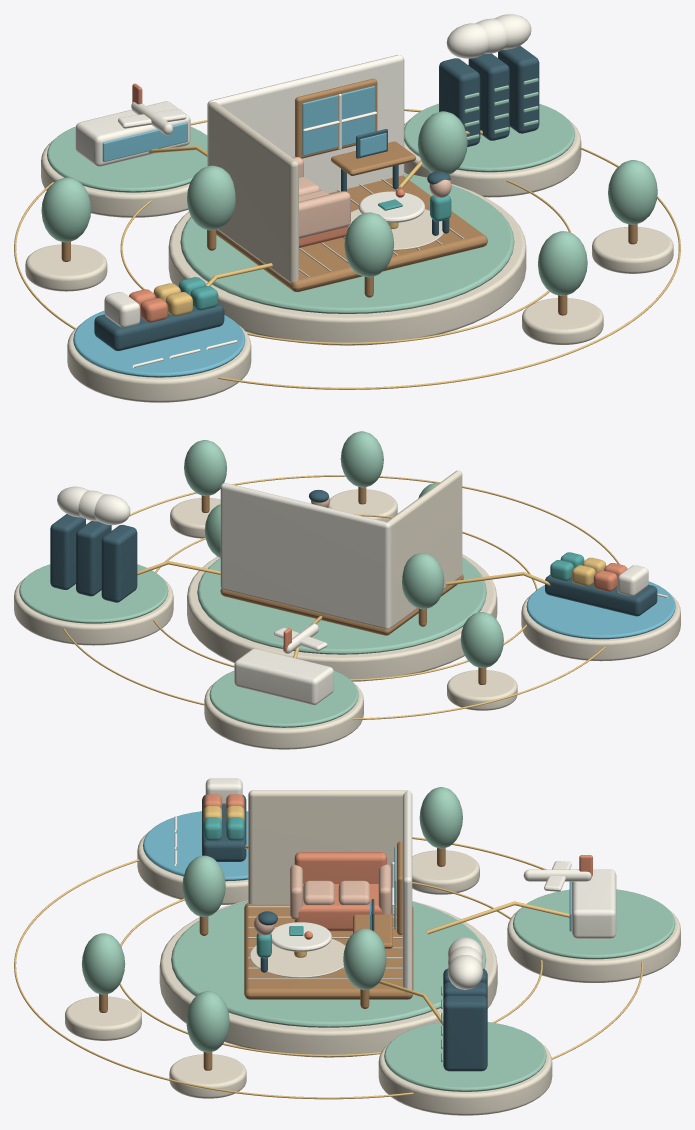
The model's file is world.glb.
3 views of the same model, one above another, from view 1: azimuth 30°, elevation 25°; view 2: azimuth 150°, elevation 25°; view 3: azimuth 270°, elevation 25° (orthographic). The views are drawn at different scales.
Visible parts, largest first — view 1: Garden rim, Central life island, Side wall, Back wall, Surface, Oak floor, Surface.002, Event island 0, Surface.001, Event island 1, Window glass, Small garden.001 (+28 smaller); view 2: Back wall, Garden rim, Central life island, Side wall, Surface.001, Surface.002, Surface, Terminal, Event island 2, Event island 1, Event island 0, Cloud service tower (+18 smaller); view 3: Garden rim, Side wall, Central life island, Surface.001, Surface.002, Oak floor, Event island 1, Event island 2, Cloud service tower.002, Surface, Terminal, Small garden.002 (+26 smaller).
Part boxes in pixels (left/top/right/bottom): Garden rim: left=180, top=173, right=514, bottom=313; Central life island: left=168, top=173, right=526, bottom=345; Side wall: left=208, top=102, right=298, bottom=283; Back wall: left=207, top=55, right=404, bottom=193; Surface: left=73, top=311, right=245, bottom=377; Oak floor: left=216, top=175, right=487, bottom=291; Surface.002: left=47, top=126, right=207, bottom=192; Event island 0: left=67, top=325, right=251, bottom=402; Surface.001: left=404, top=103, right=574, bottom=172; Event island 1: left=404, top=120, right=581, bottom=197; Window glass: left=302, top=86, right=374, bottom=155; Small garden.001: left=25, top=244, right=107, bottom=291; Back wall: left=220, top=483, right=390, bottom=629; Garden rim: left=197, top=557, right=486, bottom=654; Central life island: left=187, top=554, right=497, bottom=681; Side wall: left=387, top=470, right=462, bottom=627; Surface.001: left=19, top=564, right=168, bottom=623; Surface.002: left=209, top=670, right=358, bottom=727; Surface: left=526, top=581, right=675, bottom=639; Terminal: left=234, top=648, right=333, bottom=705; Event island 2: left=204, top=683, right=363, bottom=749; Event island 1: left=14, top=578, right=173, bottom=645; Event island 0: left=521, top=594, right=680, bottom=661; Cloud service tower: left=101, top=525, right=137, bottom=602; Garden rim: left=171, top=901, right=486, bottom=1027; Side wall: left=248, top=790, right=405, bottom=904; Central life island: left=159, top=900, right=497, bottom=1057; Surface.001: left=384, top=1022, right=546, bottom=1091; Surface.002: left=513, top=889, right=675, bottom=959; Oak floor: left=244, top=903, right=413, bottom=999; Event island 1: left=378, top=1043, right=552, bottom=1115; Event island 2: left=507, top=910, right=680, bottom=982; Cloud service tower.002: left=443, top=995, right=487, bottom=1071; Surface: left=143, top=811, right=248, bottom=881; Terminal: left=572, top=869, right=616, bottom=938; Small garden.002: left=65, top=996, right=141, bottom=1040.
Size of the model in its own units: 8.36 by 2.11 by 8.29.
